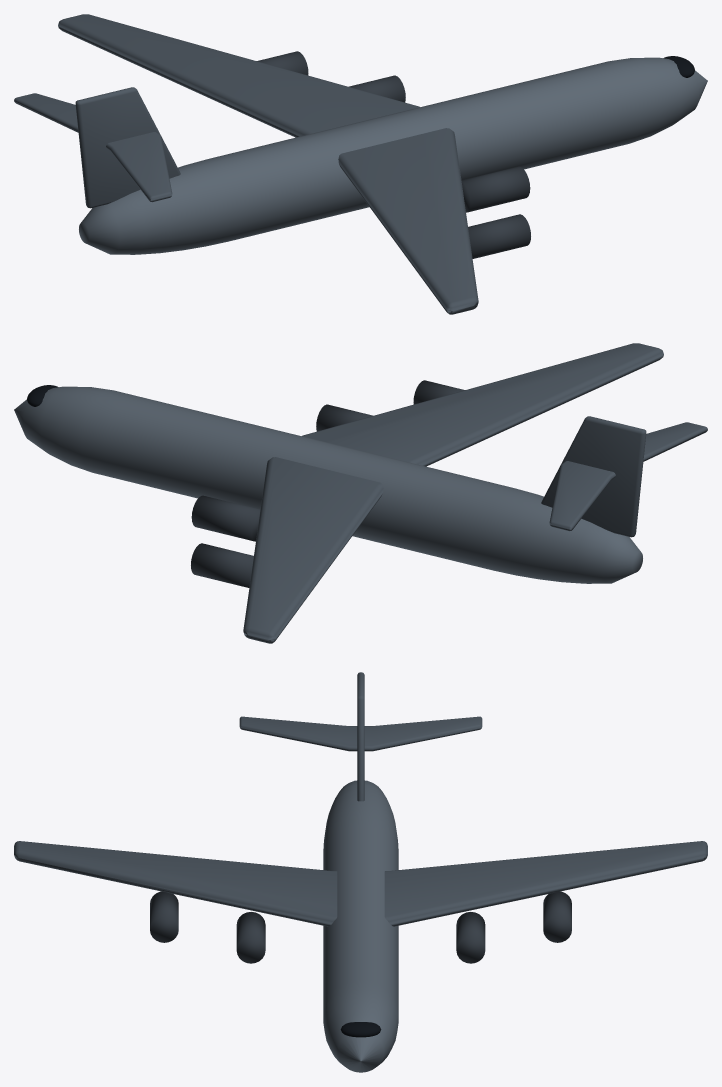
Rendered from heavy_mil.glb.
3 views of the same model, one above another, from view 1: azimuth 30°, elevation 25°; view 2: azimuth 150°, elevation 25°; view 3: azimuth 270°, elevation 25° (orthographic). The views are drawn at different scales.
Parts seen in each view (by area): view 1: fus, wing, fin, stab, eng17.6, eng113.6, eng-17.6, eng-113.6; view 2: fus, wing, fin, stab, eng-17.6, eng-113.6, eng17.6, eng113.6; view 3: wing, fus, stab, eng17.6, eng-17.6, eng113.6, eng-113.6, fin.
Boxes of the visible parts, box(x1,y1,x2,y2) form: fus: box(79, 57, 707, 254); wing: box(58, 14, 478, 314); fin: box(75, 87, 180, 208); stab: box(14, 93, 172, 202); eng17.6: box(461, 166, 530, 212); eng113.6: box(468, 214, 530, 258); eng-17.6: box(349, 75, 405, 102); eng-113.6: box(257, 51, 308, 75); fus: box(14, 386, 642, 583); wing: box(243, 343, 663, 643); fin: box(541, 416, 646, 537); stab: box(549, 422, 707, 531); eng-17.6: box(191, 495, 260, 541); eng-113.6: box(191, 543, 253, 587); eng17.6: box(316, 404, 372, 431); eng113.6: box(413, 380, 464, 404); wing: box(14, 841, 707, 926); fus: box(323, 780, 398, 1072); stab: box(239, 716, 482, 751); eng17.6: box(236, 912, 265, 963); eng-17.6: box(456, 912, 485, 963); eng113.6: box(150, 891, 178, 942); eng-113.6: box(543, 891, 571, 942); fin: box(357, 672, 364, 801).
Bounding box in the file's own units: 44.56 × 11.6 × 48.
